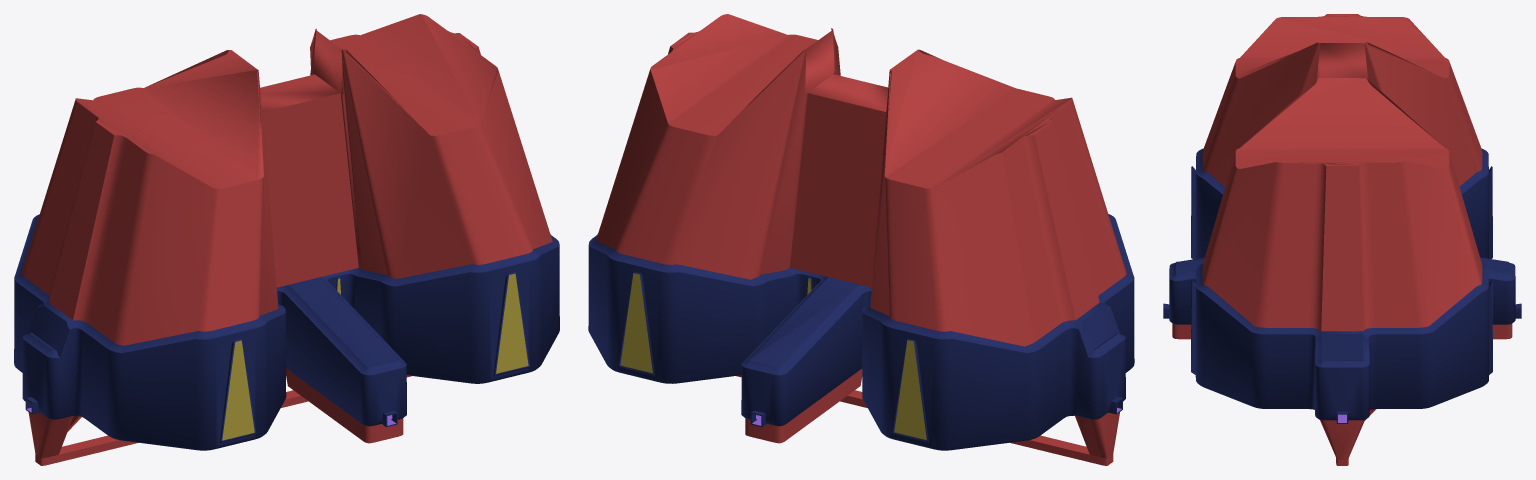
Rendered from SS TRIWINDOW Module.FBX.
3 views of the same model, side by side, from view 1: azimuth 30°, elevation 25°; view 2: azimuth 150°, elevation 25°; view 3: azimuth 270°, elevation 25° (orthographic). The views are drawn at different scales.
Visible parts, largest first — view 1: Floor002, Glass001; view 2: Floor002, Glass001; view 3: Floor002.
Boxes of the visible parts, <box> form: Floor002: <box>14,14,559,465</box>; Glass001: <box>222,273,528,440</box>; Floor002: <box>588,14,1134,465</box>; Glass001: <box>620,273,926,439</box>; Floor002: <box>1163,14,1521,465</box>.
Size of the model in its own units: 221 by 144 by 155.
